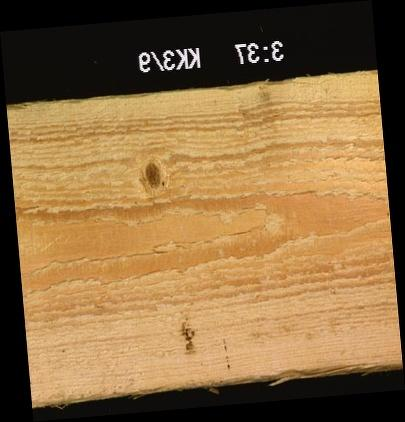sound_knot: (141, 160, 164, 188)
wave: (30, 367, 402, 399), (6, 74, 361, 105)
